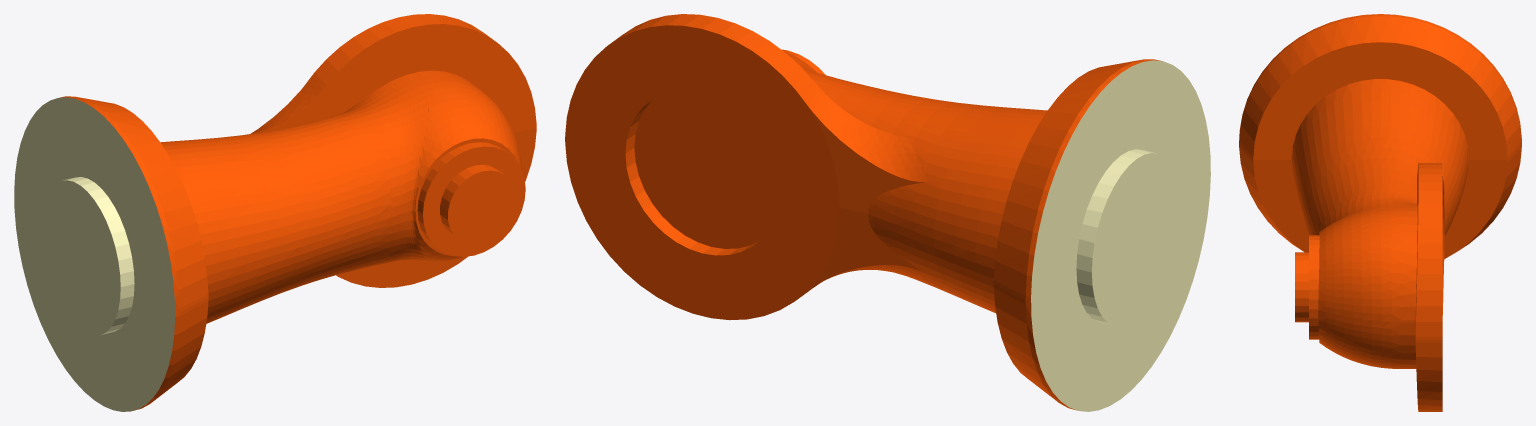
The picture shows the model from 3 angles, left to right: view 1: azimuth 30°, elevation 25°; view 2: azimuth 150°, elevation 25°; view 3: azimuth 270°, elevation 25°; orthographic projection. The views are drawn at different scales.
Parts seen in each view (by area): view 1: _world_geo_R2700_teile.3ds_Hand_1_2.3ds.001, _world_geo_R2700_teile.3ds_Hand_1_2.3ds; view 2: _world_geo_R2700_teile.3ds_Hand_1_2.3ds.001, _world_geo_R2700_teile.3ds_Hand_1_2.3ds; view 3: _world_geo_R2700_teile.3ds_Hand_1_2.3ds.001.
Part boxes in pixels (bbox=[...]): _world_geo_R2700_teile.3ds_Hand_1_2.3ds.001: bbox=[60, 14, 536, 410]; _world_geo_R2700_teile.3ds_Hand_1_2.3ds: bbox=[14, 97, 174, 411]; _world_geo_R2700_teile.3ds_Hand_1_2.3ds.001: bbox=[565, 14, 1162, 410]; _world_geo_R2700_teile.3ds_Hand_1_2.3ds: bbox=[1031, 60, 1210, 411]; _world_geo_R2700_teile.3ds_Hand_1_2.3ds.001: bbox=[1239, 14, 1521, 411].
Size of the model in its own units: 0.3446 by 0.202 by 0.202.
